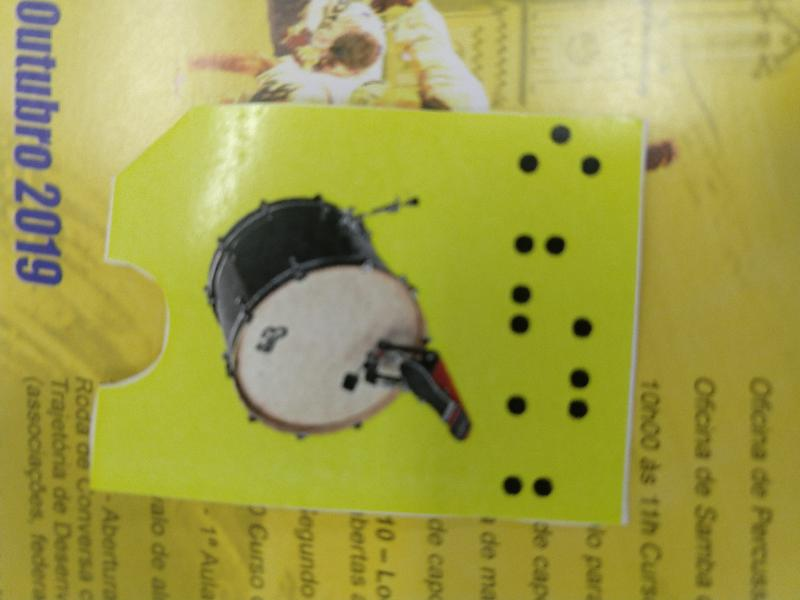bumbo: (87, 96, 645, 535)
